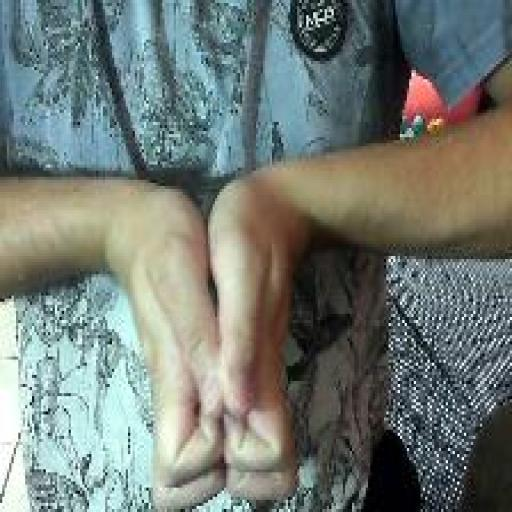I -boar-: (121, 177, 304, 512)
